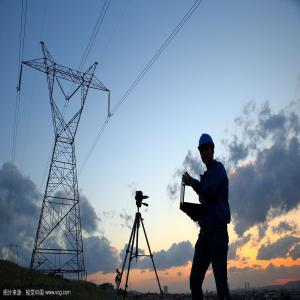blue: (199, 134, 216, 165)
